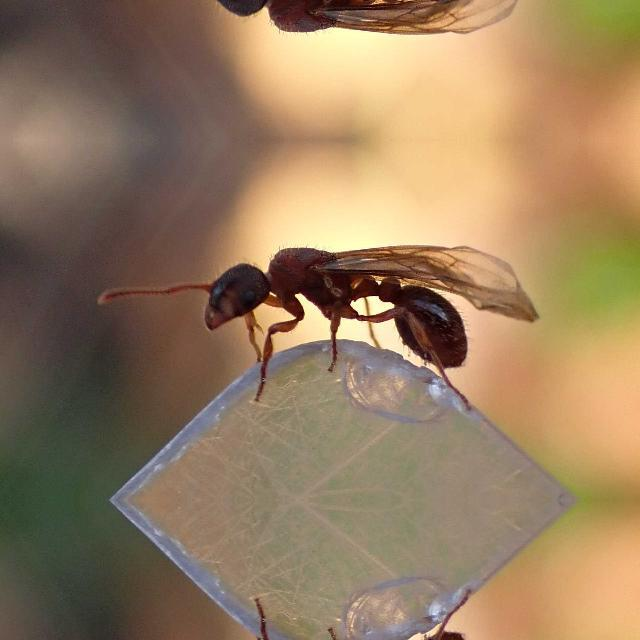Myrmica: (210, 224, 468, 390), (208, 0, 468, 56)
